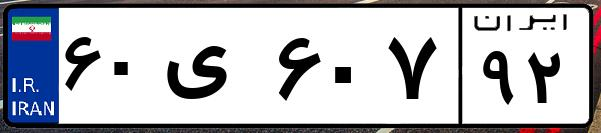0: (330, 28, 385, 110), (110, 28, 158, 98)
2: (525, 38, 570, 115)
6: (270, 28, 330, 110), (57, 26, 110, 100)
7: (385, 28, 445, 110)
9: (475, 38, 525, 113)
ی: (158, 20, 270, 120)
